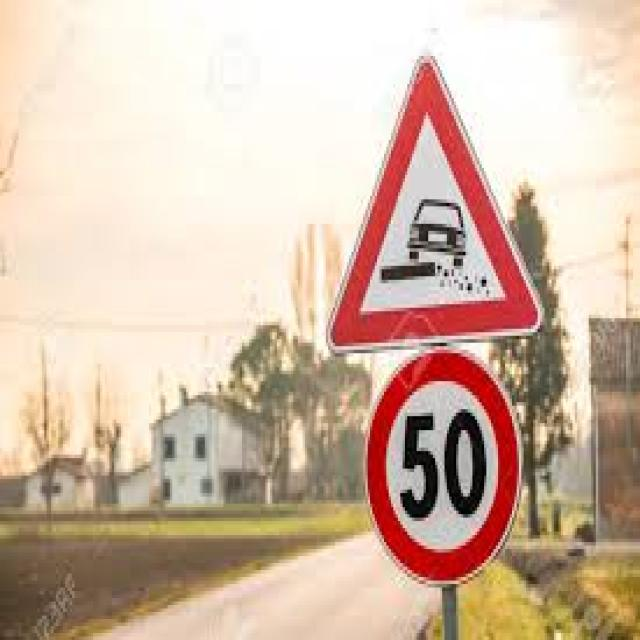Speed limit 50: (364, 344, 525, 589)
